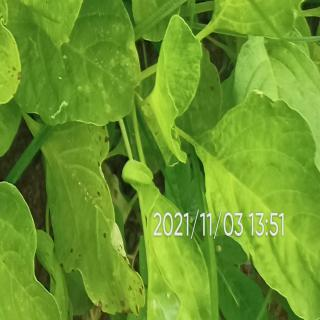karat_putih: (34, 0, 146, 134)
kekurangan_mangan: (49, 118, 153, 320), (0, 0, 24, 111)
